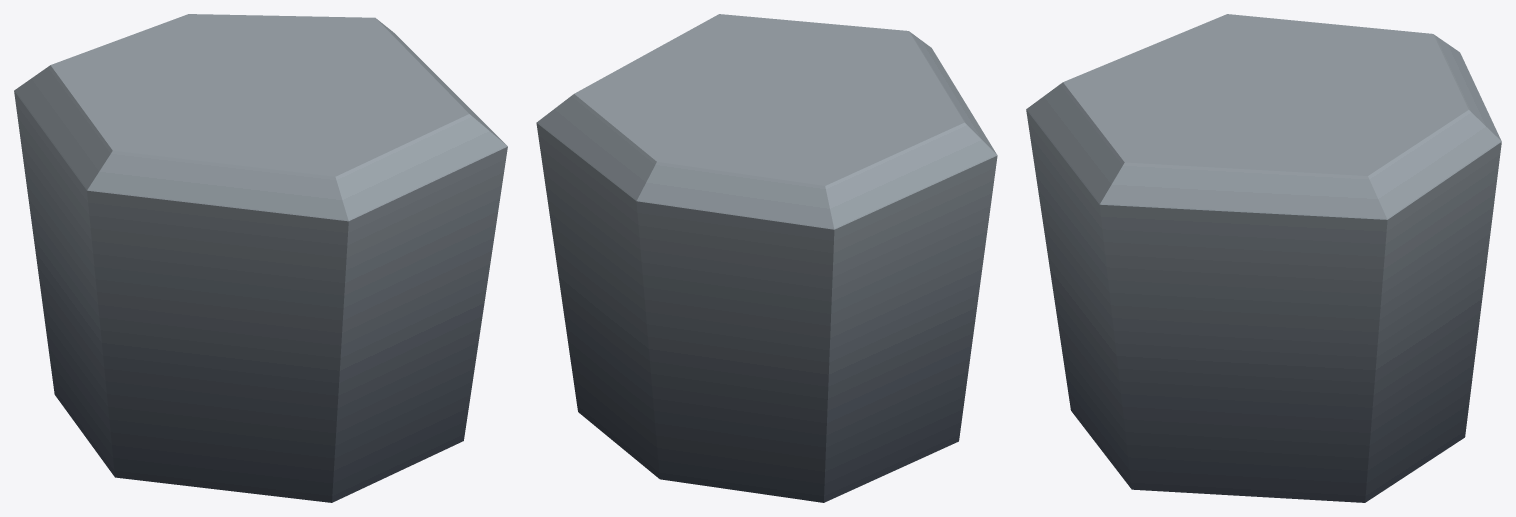
The model's file is sm_forest_stoneplatform.fbx.
3 renders of one model, left to right at view 1: azimuth 30°, elevation 25°; view 2: azimuth 150°, elevation 25°; view 3: azimuth 270°, elevation 25°, orthographic. The views are drawn at different scales.
Parts seen in each view (by area): view 1: sm_forest_stoneplatform; view 2: sm_forest_stoneplatform; view 3: sm_forest_stoneplatform.
Boxes of the visible parts, x1,y1,x2,y2 form: sm_forest_stoneplatform: [14, 14, 507, 502]; sm_forest_stoneplatform: [536, 14, 997, 502]; sm_forest_stoneplatform: [1026, 14, 1501, 502].
Size of the model in its own units: 249 by 263 by 200.
